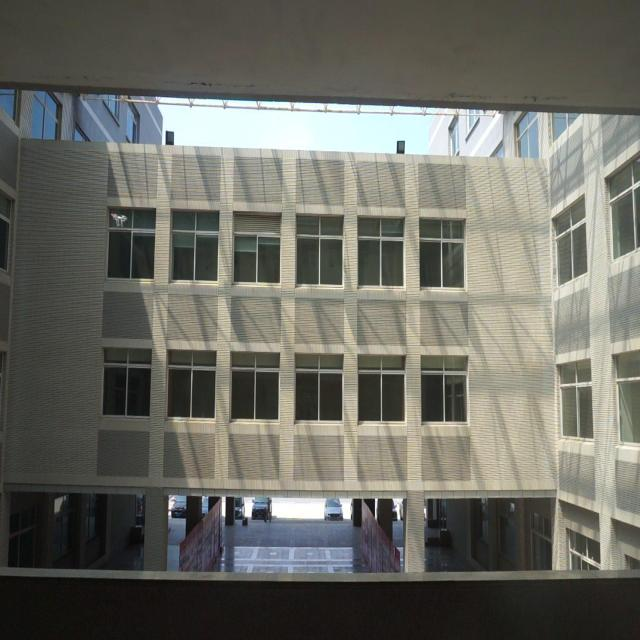drone: (109, 209, 129, 230)
